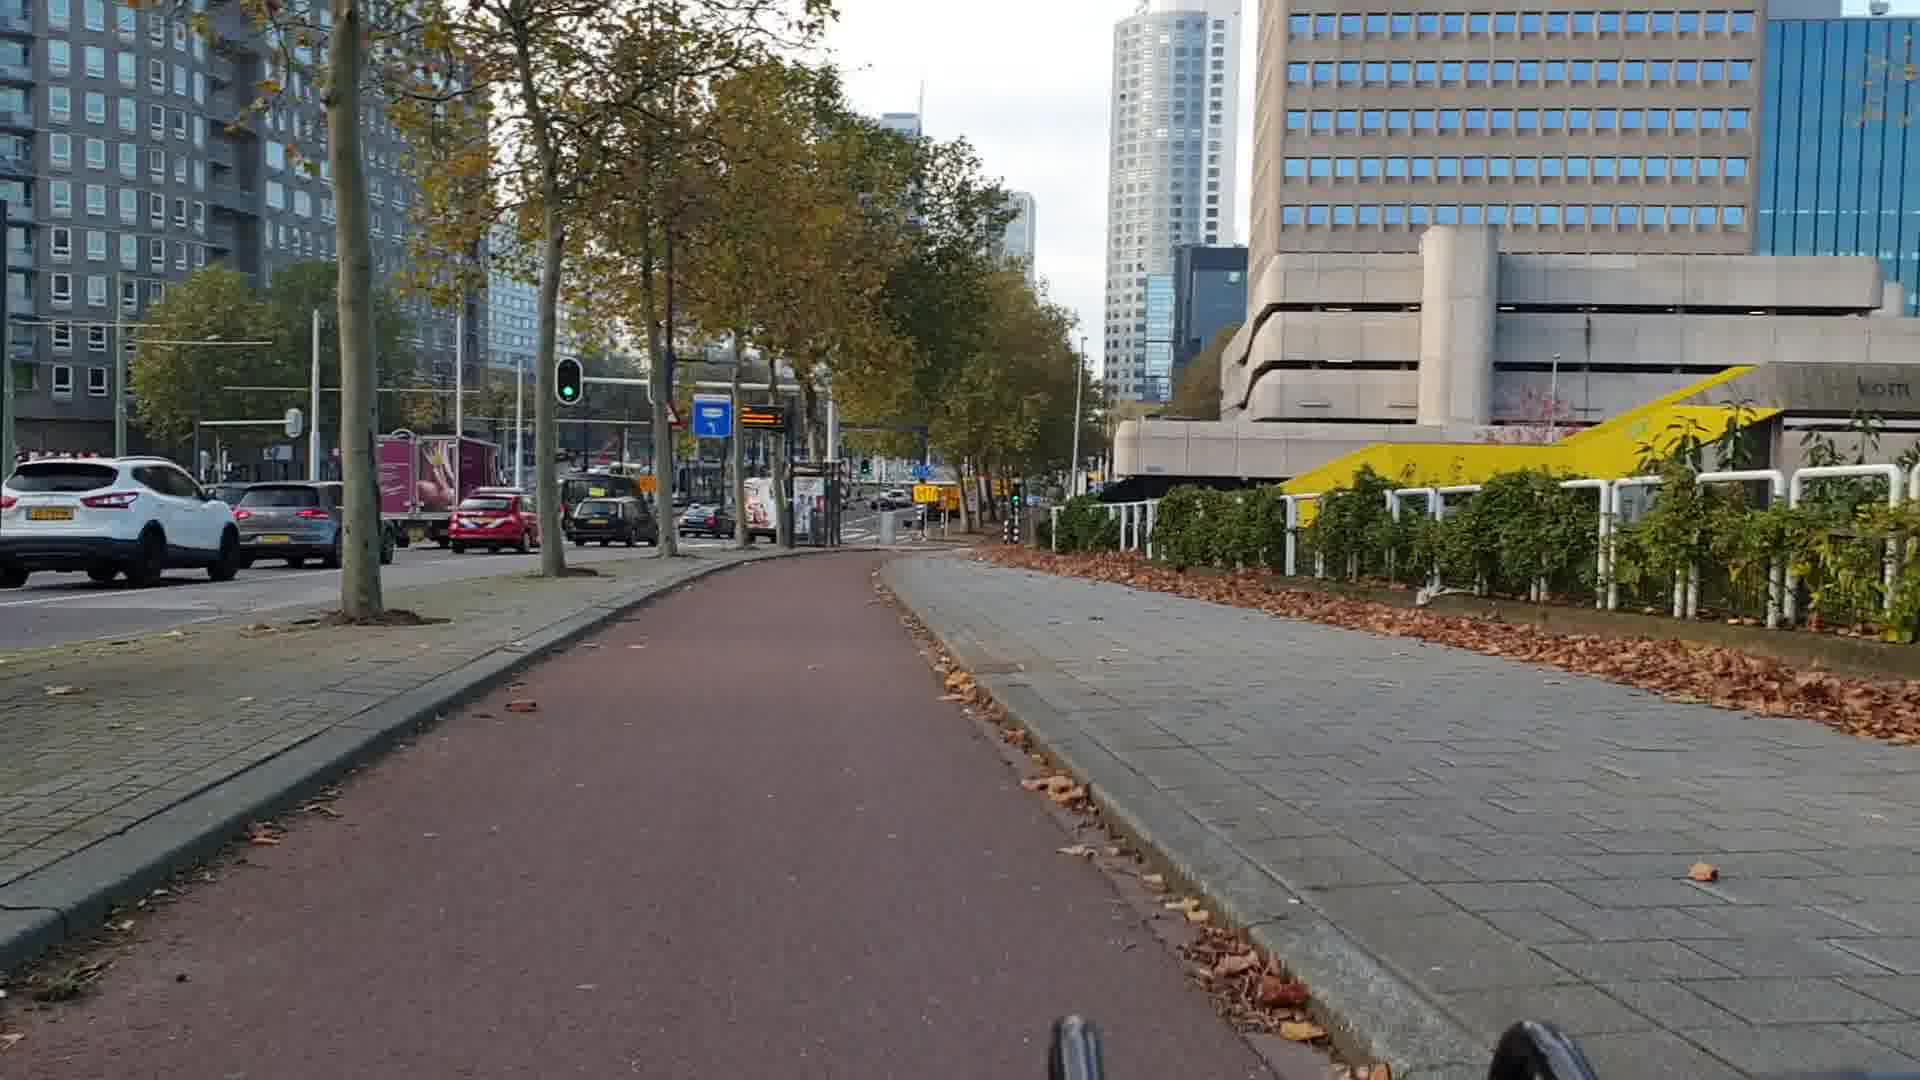car: (1, 454, 237, 587), (235, 479, 400, 560), (436, 491, 546, 553), (570, 498, 659, 546)
